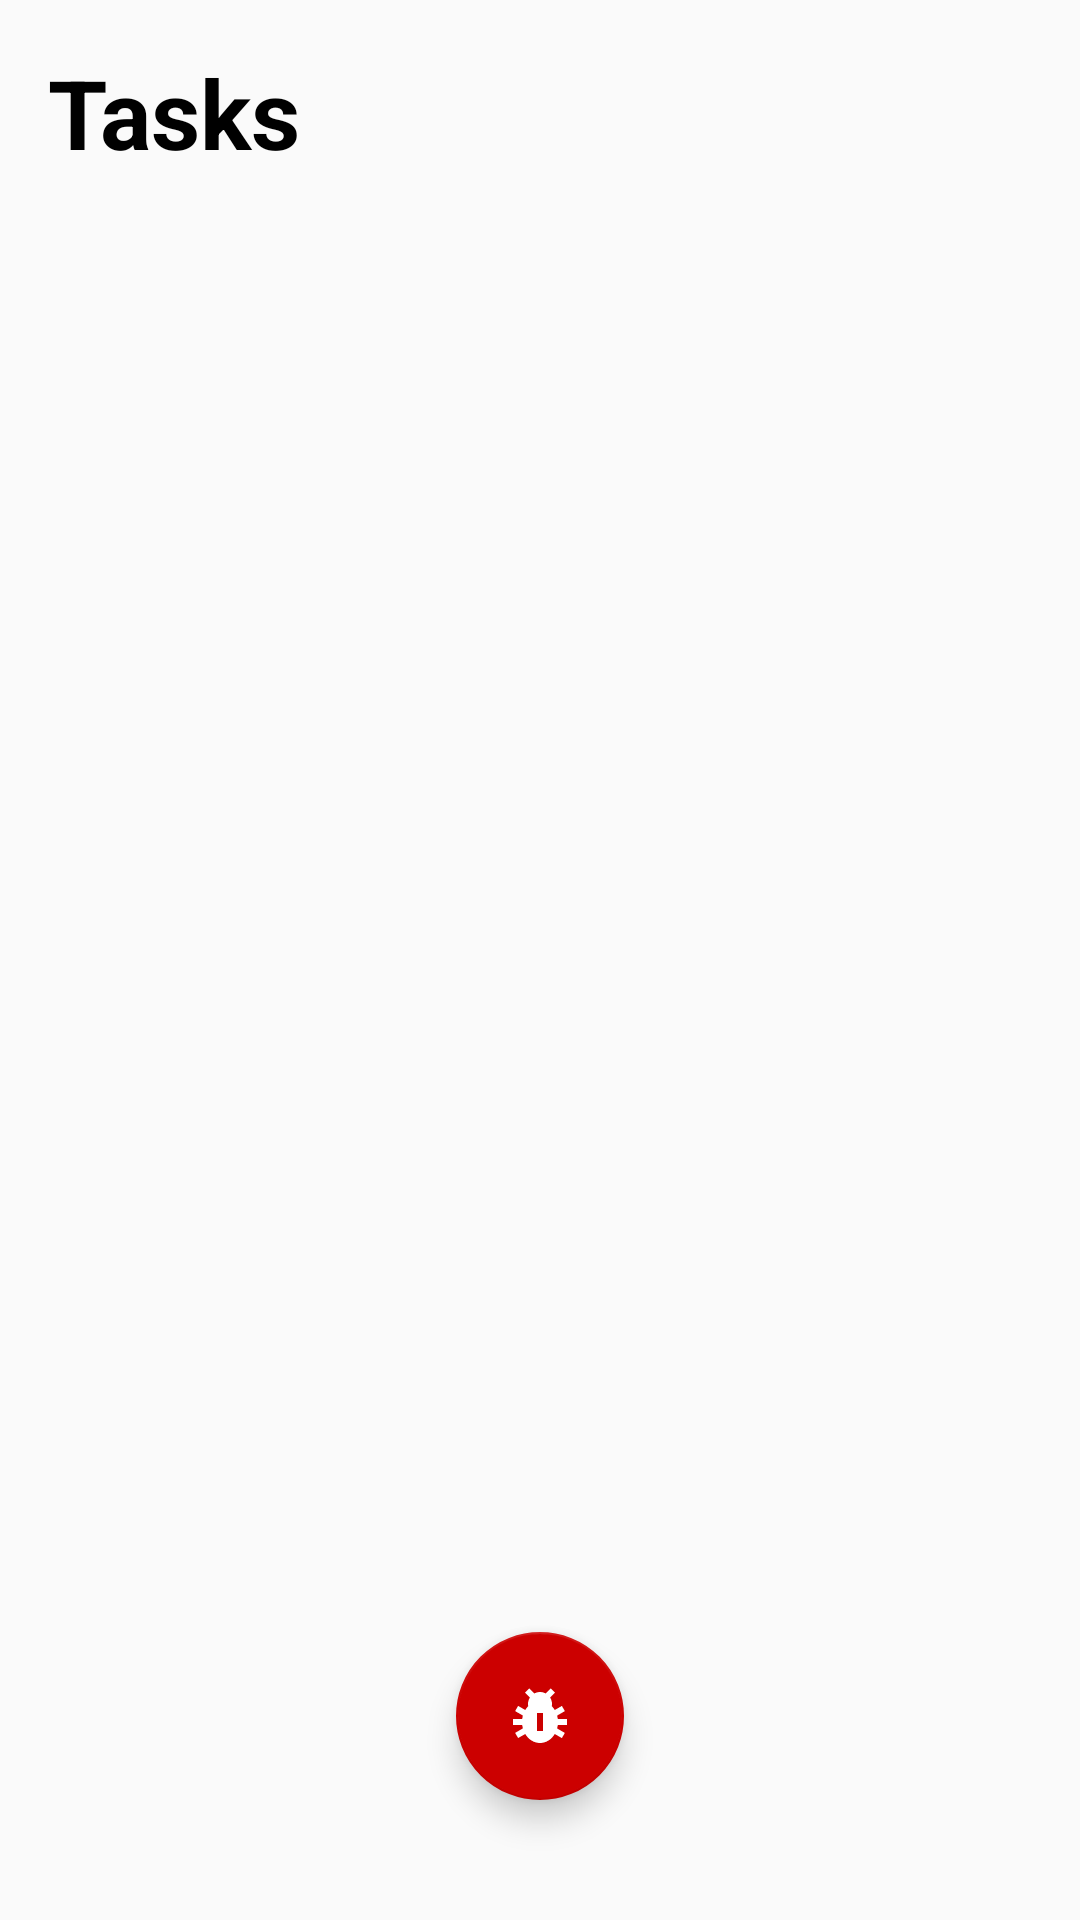

Named icons in this screenshot (1080*1920) and their bounding boxes, Rect(x1, y1, x2, y2):
pest control: Rect(456, 1632, 624, 1800)
